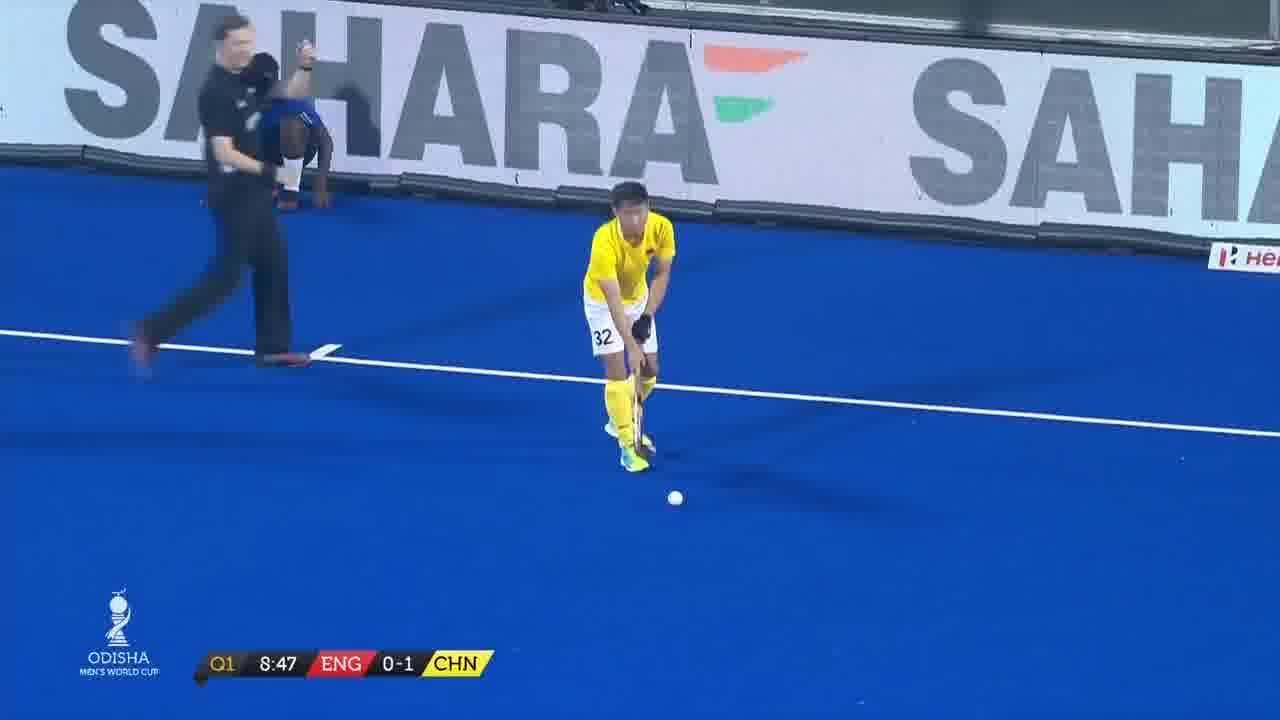ball: (668, 478, 688, 516)
